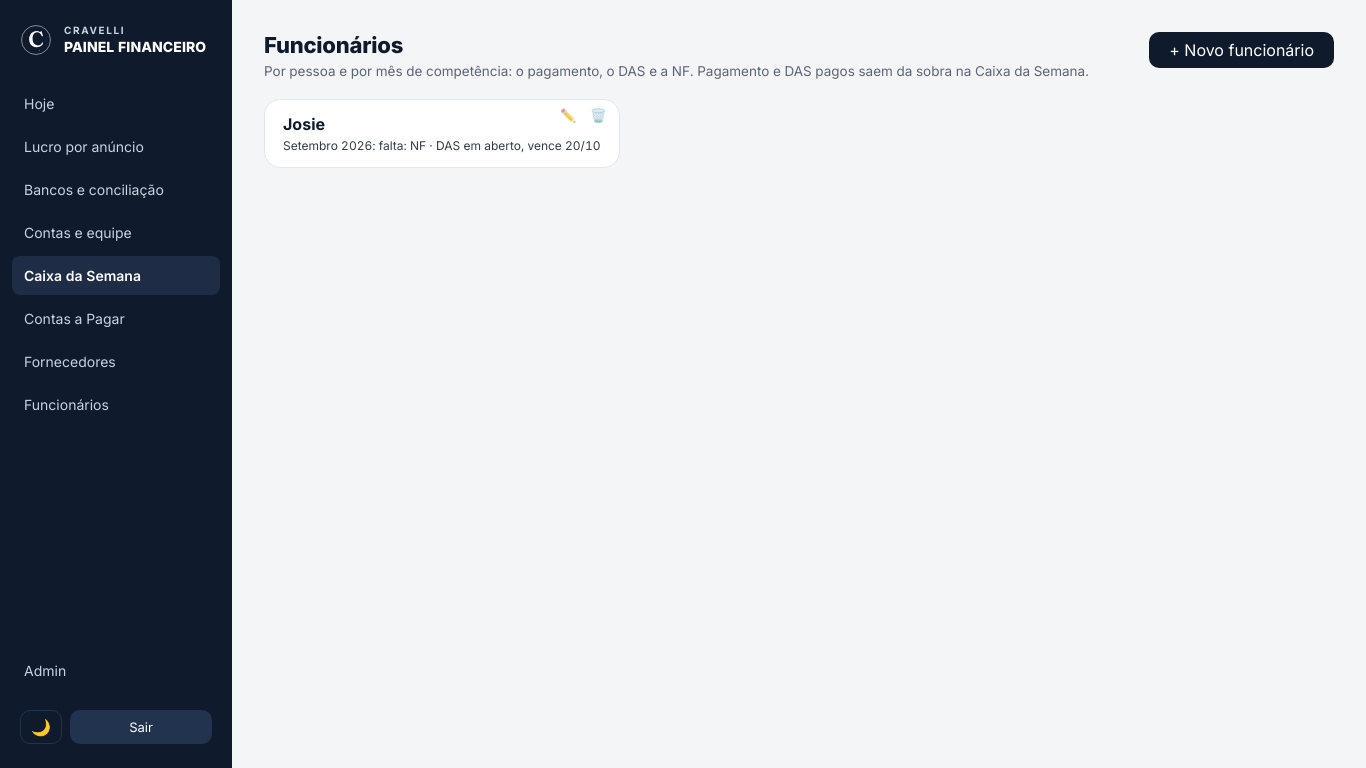
Test case: Funcionários › resposta atrasada de um mês antigo não sobrescreve o mês atual
Click the text "Josie" at point(304, 124), box [283, 114, 325, 134]
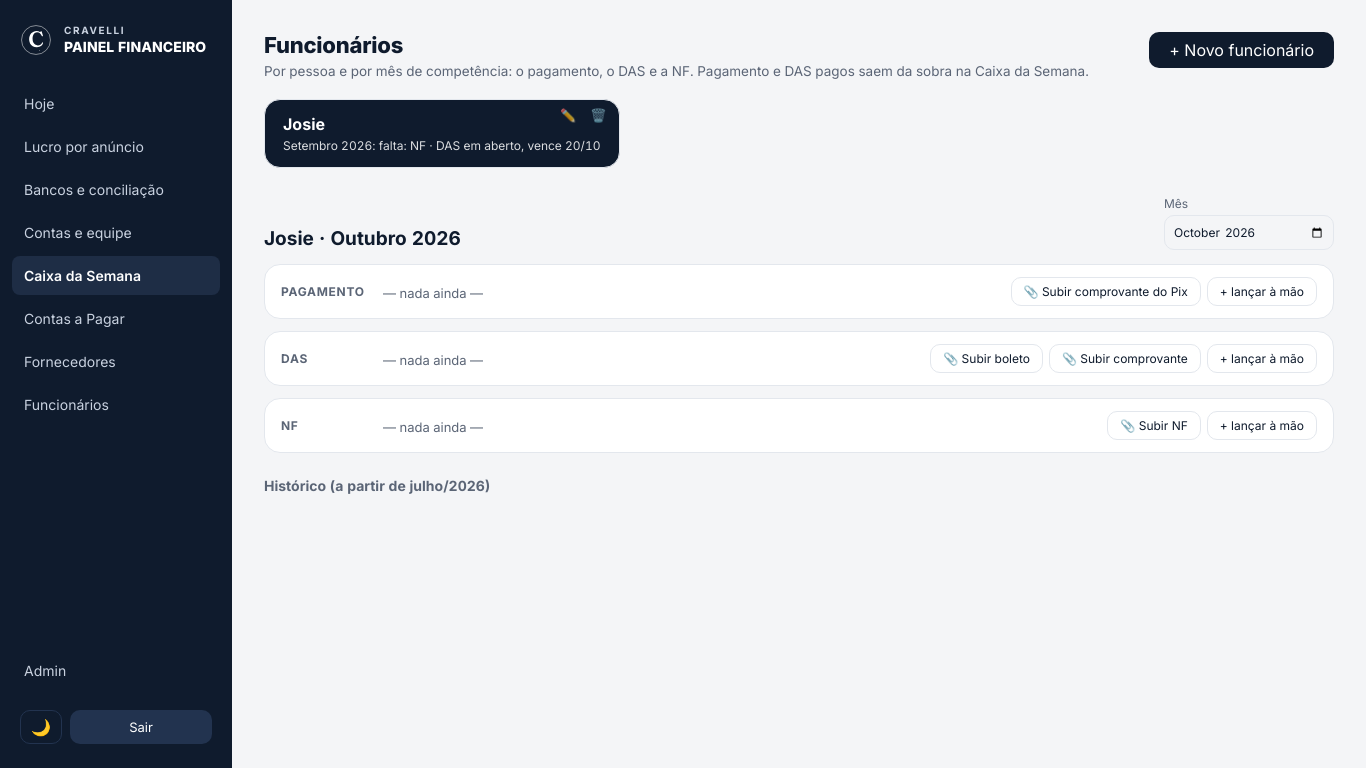
Expected: the text "PAGAMENTO" is shown, [281, 284, 371, 299]
# Troca rápido: 08 fica pendente (controlado à mão) e 07 já resolve.
Replace the text in the field labelled "Mês" with "2026-08" at point(1249, 232), box [1164, 215, 1334, 250]
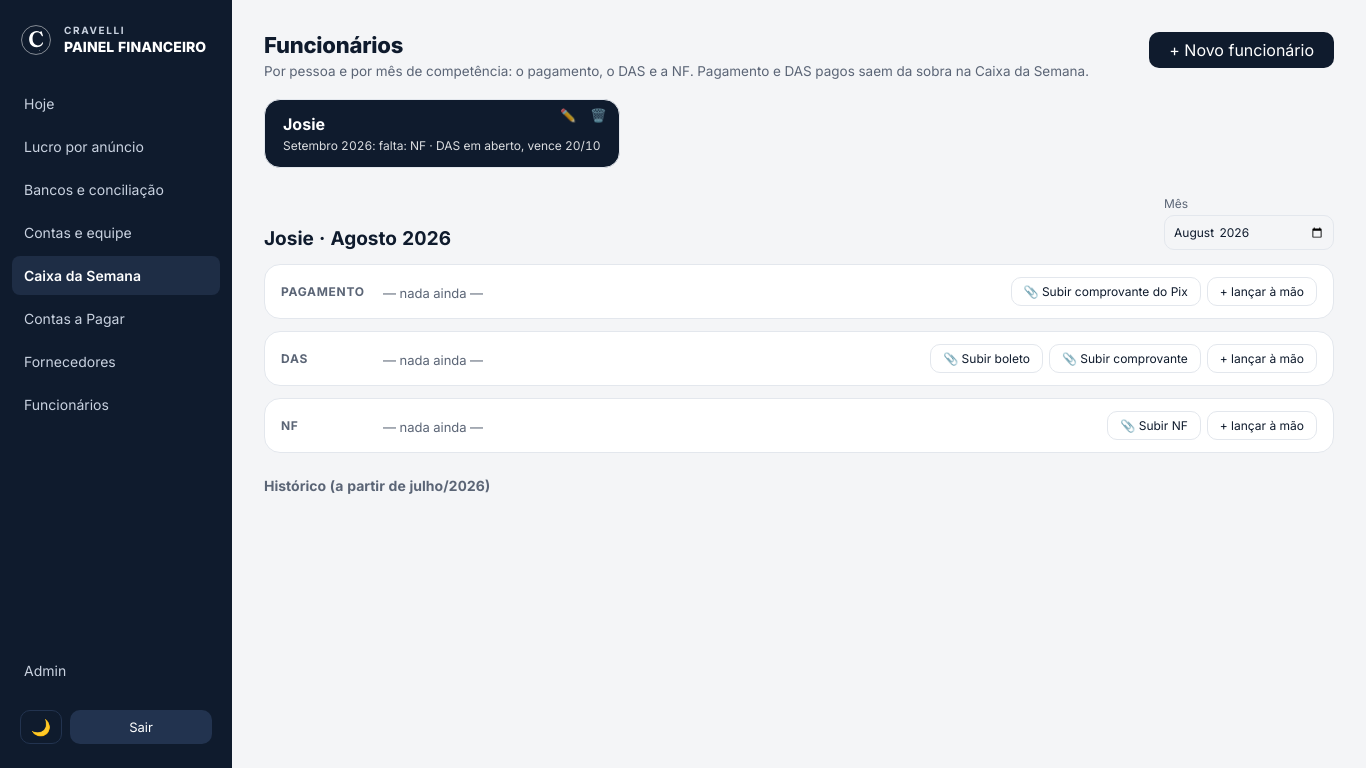
Replace the text in the field labelled "Mês" with "2026-07" at point(1249, 232), box [1164, 215, 1334, 250]
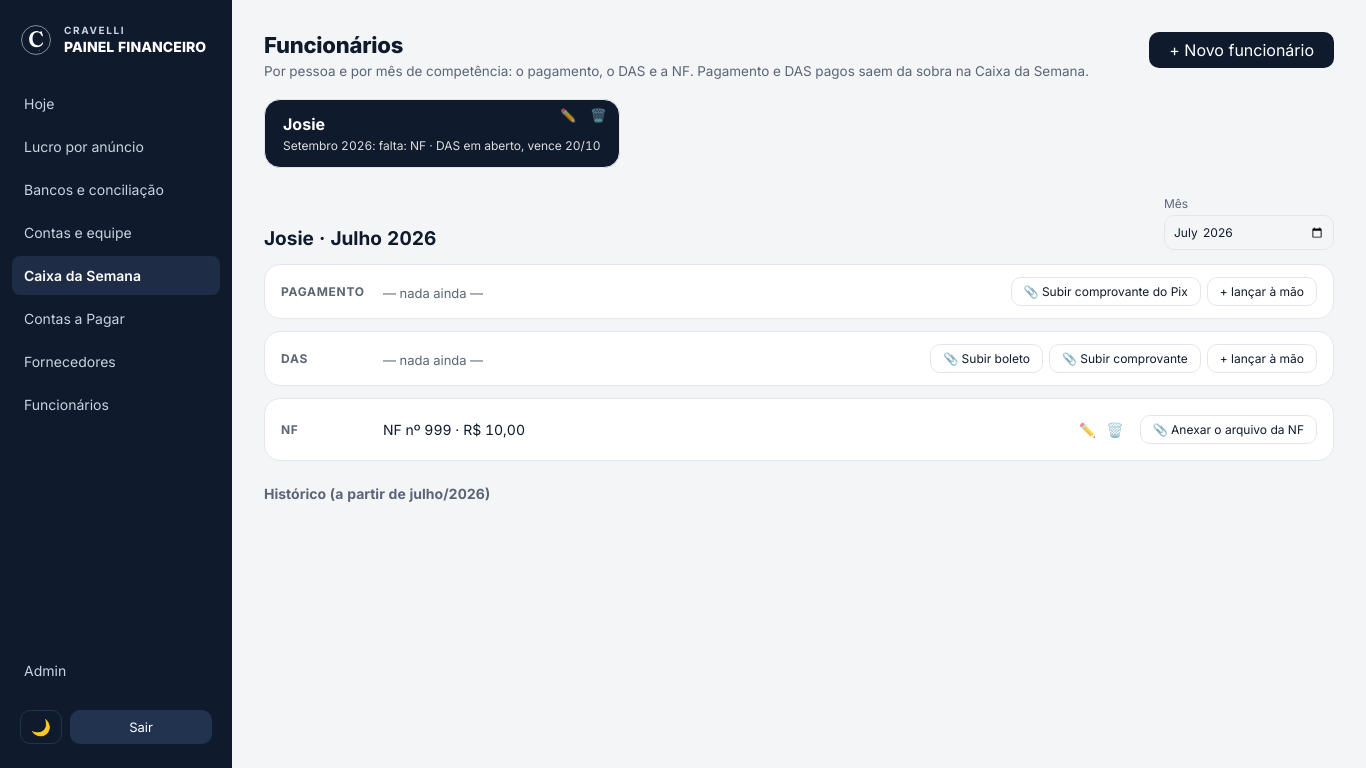
Expected: the text "NF nº 999 · R$ 10,00" is shown, [383, 421, 525, 438]
